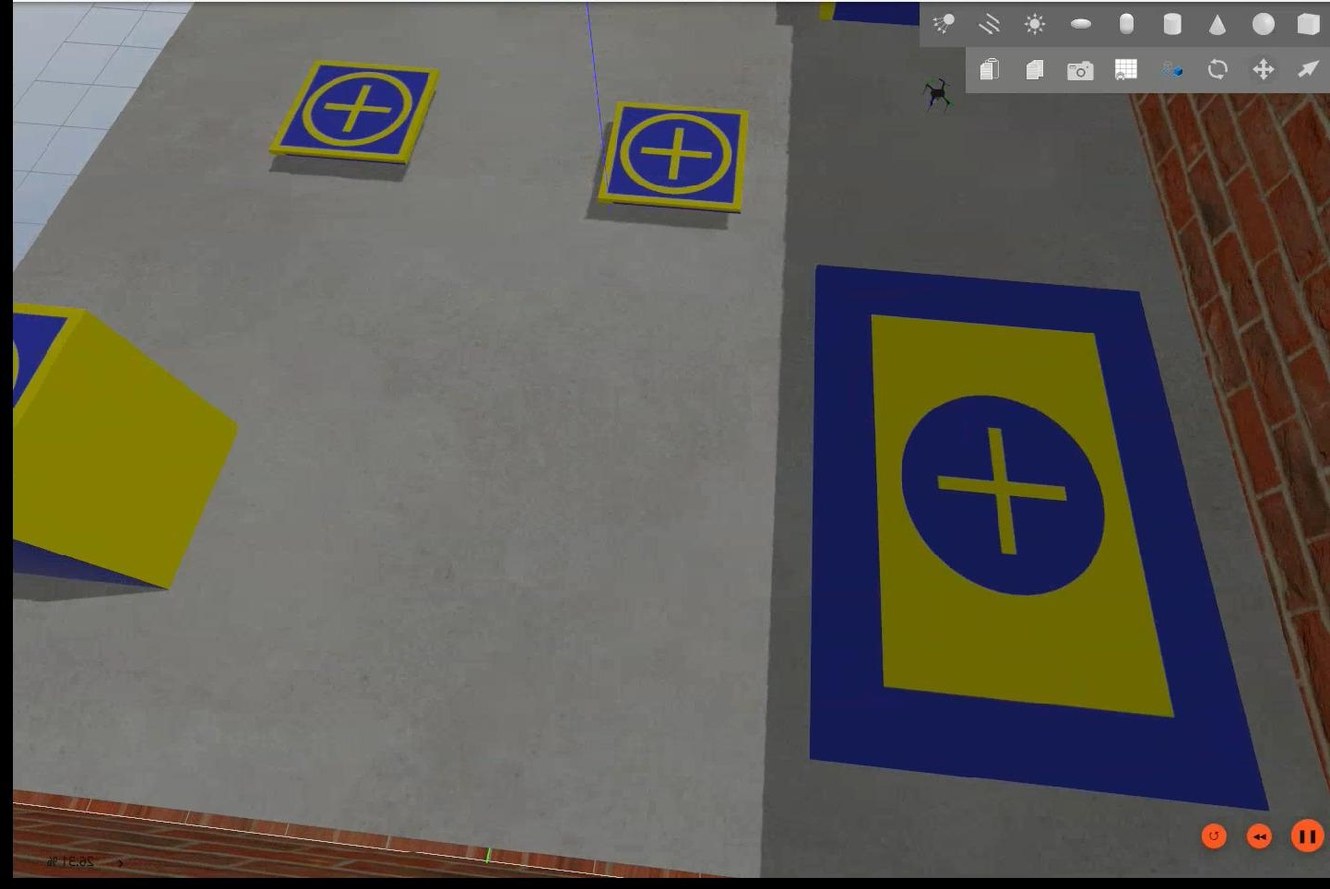large_base: (804, 266, 1273, 812)
small_base: (268, 60, 437, 170), (592, 103, 751, 214), (6, 302, 84, 426)
